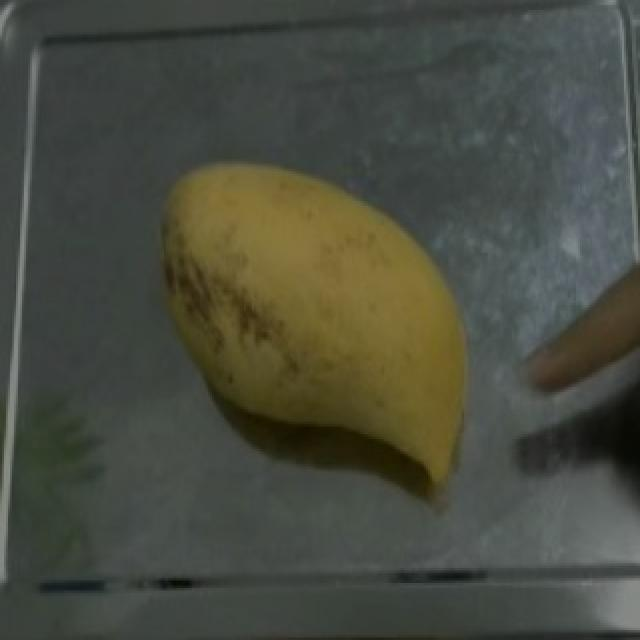fruit: (148, 142, 504, 472)
